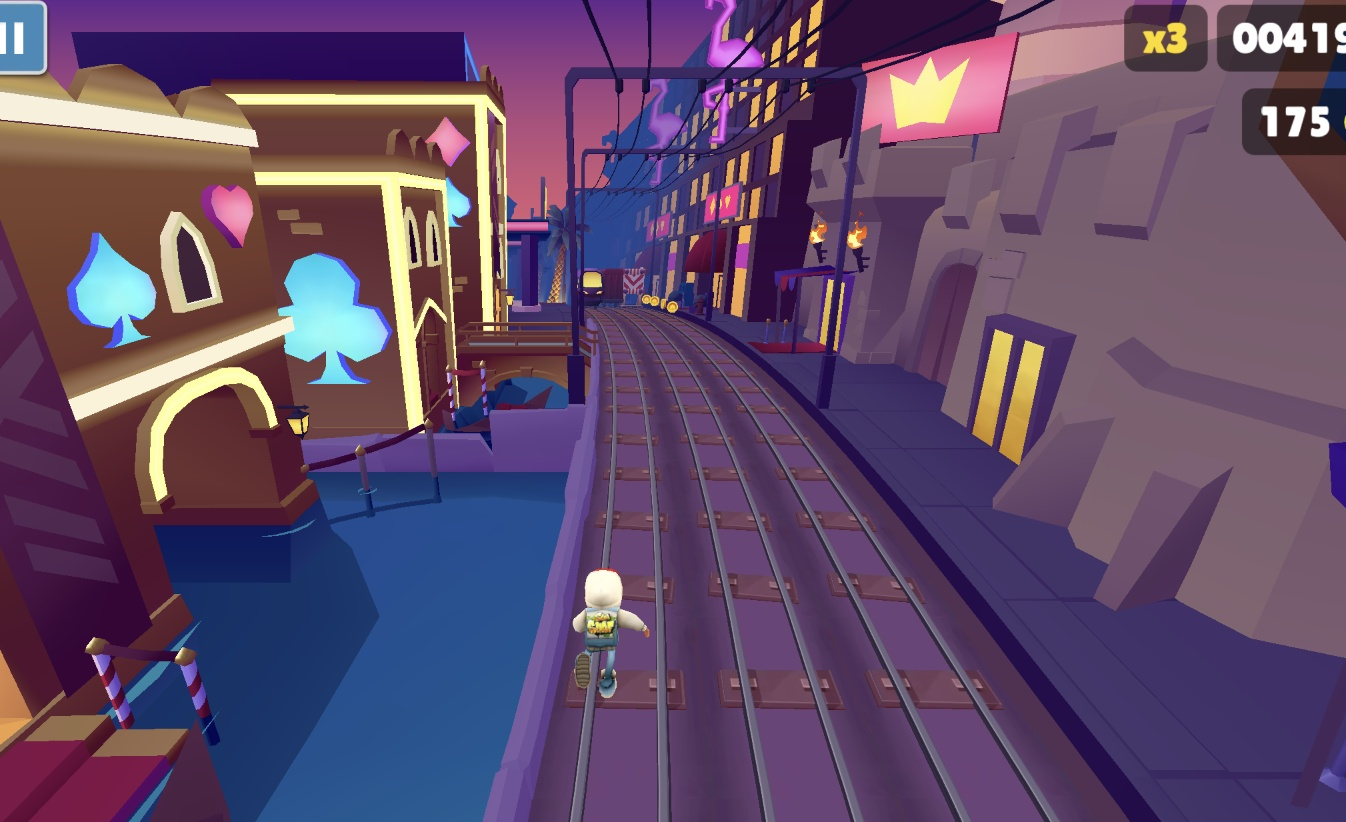overhead_barrier: (622, 267, 647, 306)
train: (582, 268, 608, 305), (605, 270, 625, 305)
